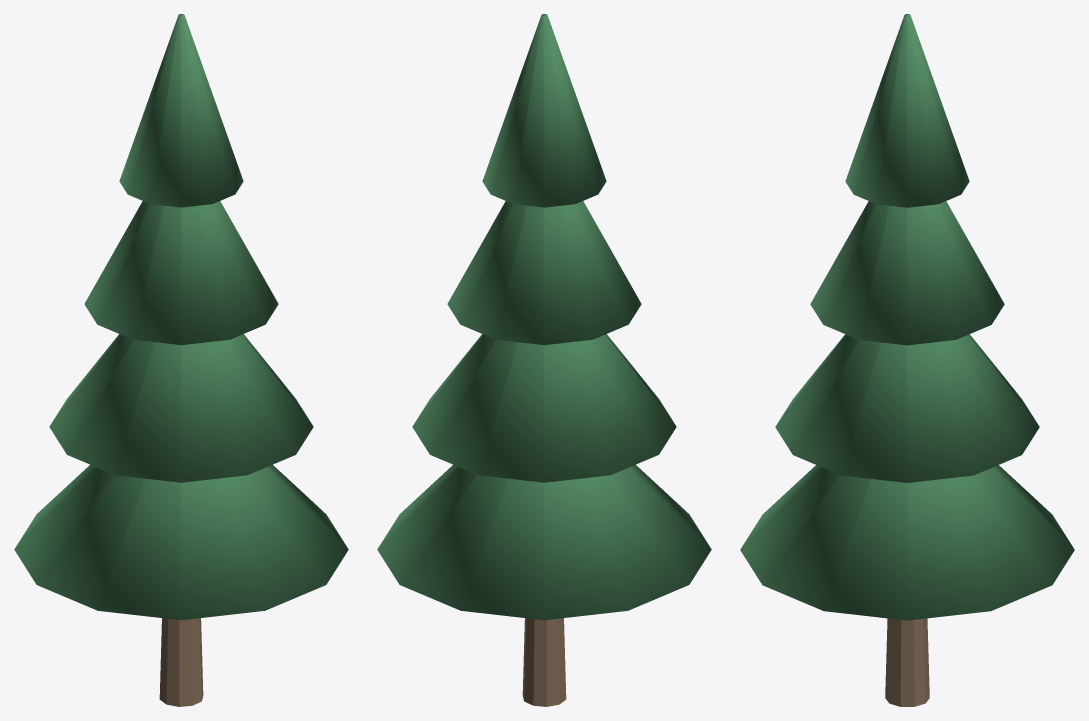
Rendered from tree_pine.glb.
3 renders of one model, left to right at view 1: azimuth 30°, elevation 25°; view 2: azimuth 150°, elevation 25°; view 3: azimuth 270°, elevation 25°, orthographic.
Visible parts, largest first — view 1: Cone.001, Cone.002, Cone.003, Cone.004, Cone; view 2: Cone.001, Cone.002, Cone.003, Cone.004, Cone; view 3: Cone.001, Cone.002, Cone.003, Cone.004, Cone.
Boxes of the visible parts, x1=… form: Cone.001: x1=14, y1=464, x2=348, y2=620; Cone.002: x1=49, y1=334, x2=313, y2=482; Cone.003: x1=84, y1=201, x2=278, y2=345; Cone.004: x1=119, y1=14, x2=243, y2=207; Cone: x1=159, y1=618, x2=203, y2=706; Cone.001: x1=377, y1=464, x2=711, y2=620; Cone.002: x1=412, y1=334, x2=676, y2=482; Cone.003: x1=447, y1=201, x2=641, y2=345; Cone.004: x1=482, y1=14, x2=606, y2=207; Cone: x1=522, y1=618, x2=566, y2=706; Cone.001: x1=740, y1=465, x2=1074, y2=620; Cone.002: x1=775, y1=334, x2=1039, y2=482; Cone.003: x1=810, y1=201, x2=1004, y2=345; Cone.004: x1=845, y1=14, x2=969, y2=207; Cone: x1=885, y1=618, x2=929, y2=706.
Size of the model in its own units: 2.1 by 4.73 by 2.1.
